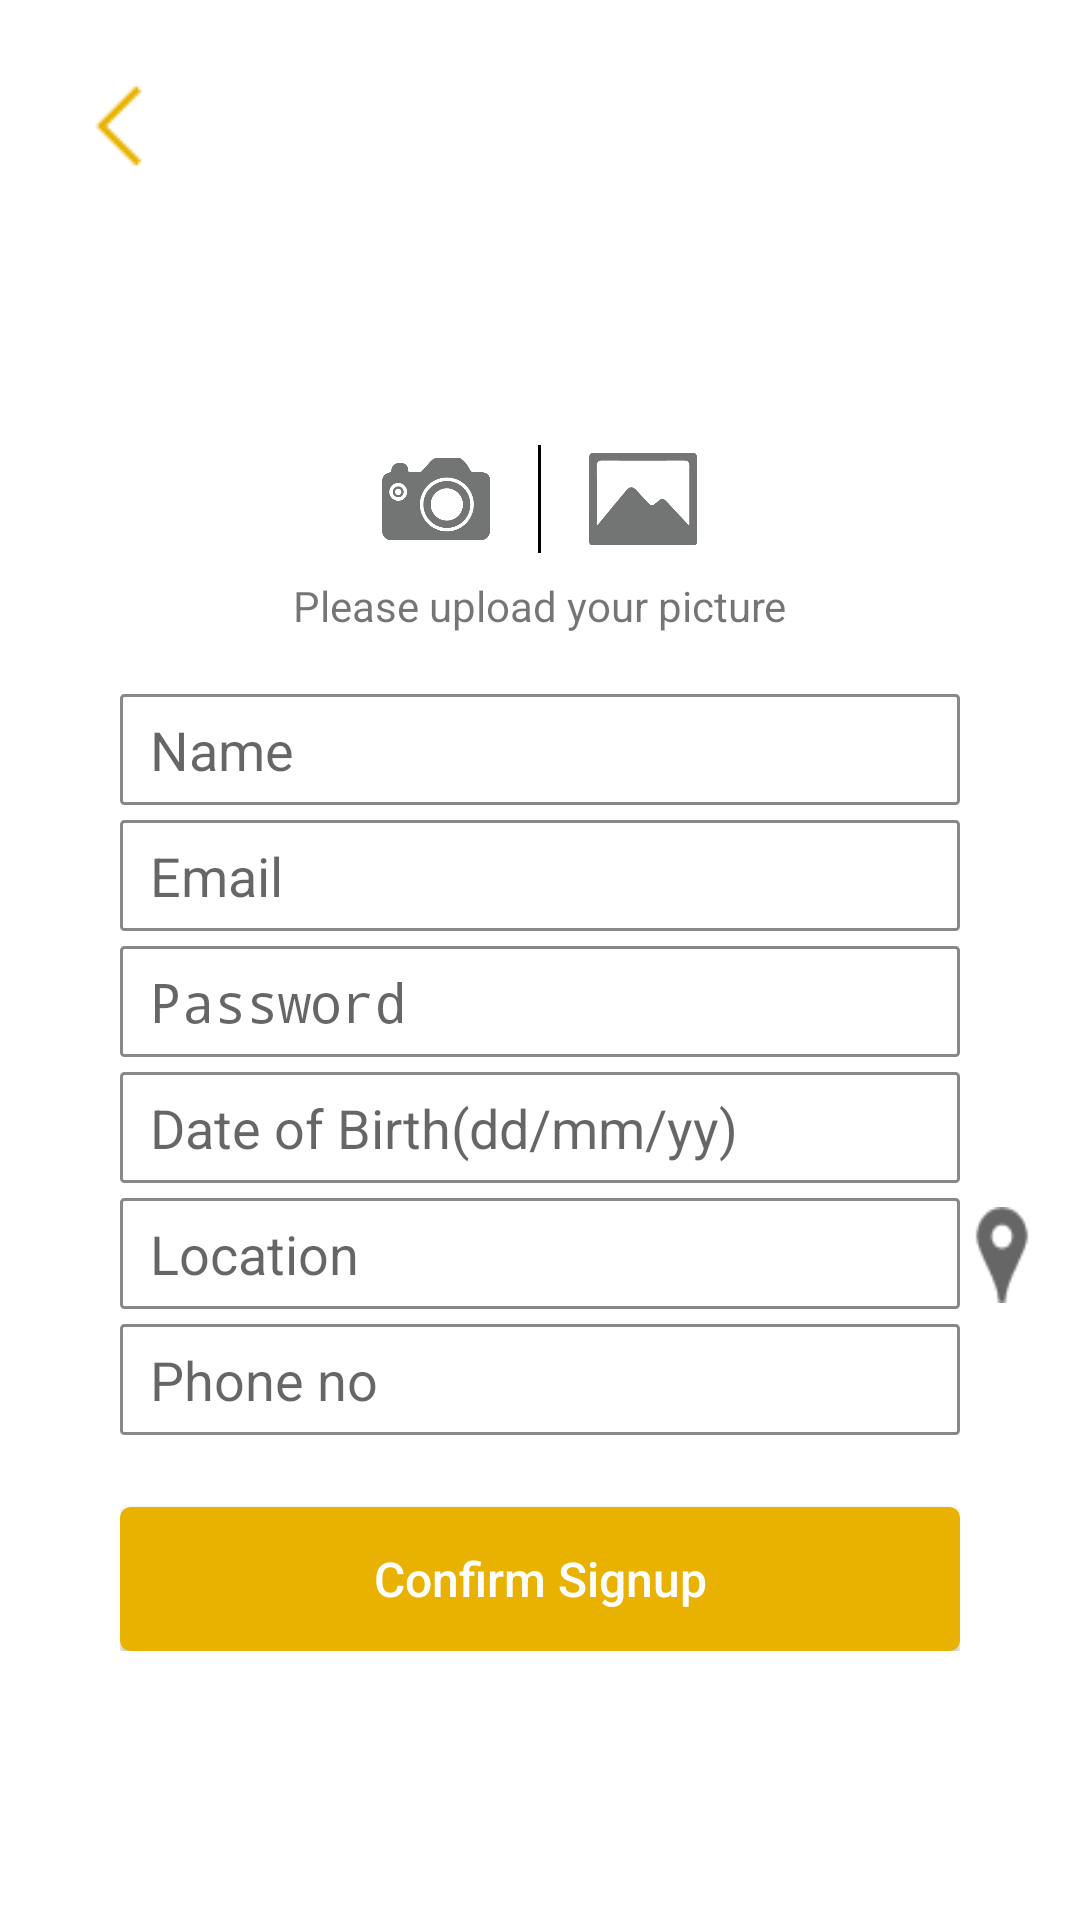

Where icons sit on this 1080px x 1920px app screen, as (x1, y1, x2, y2):
back: (95, 86, 142, 166)
camera: (382, 458, 490, 540)
gallery: (589, 453, 697, 545)
